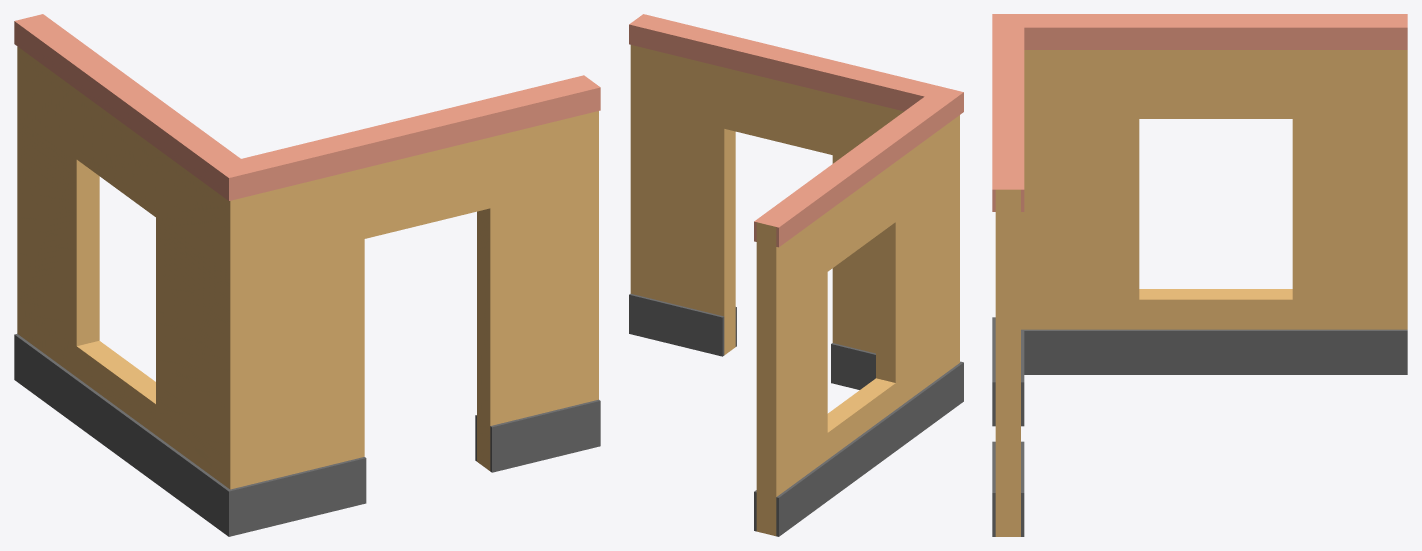
The model's file is Wall02-04.fbx.
The picture shows the model from 3 angles, left to right: view 1: azimuth 30°, elevation 25°; view 2: azimuth 150°, elevation 25°; view 3: azimuth 270°, elevation 25°; orthographic projection. The views are drawn at different scales.
Parts seen in each view (by area): view 1: Wall02-04; view 2: Wall02-04; view 3: Wall02-04.
Part boxes in pixels (x1=…): Wall02-04: x1=14, y1=14, x2=600, y2=536; Wall02-04: x1=629, y1=14, x2=963, y2=536; Wall02-04: x1=992, y1=14, x2=1407, y2=536.
Size of the model in its own units: 3.25 by 3.25 by 3.
